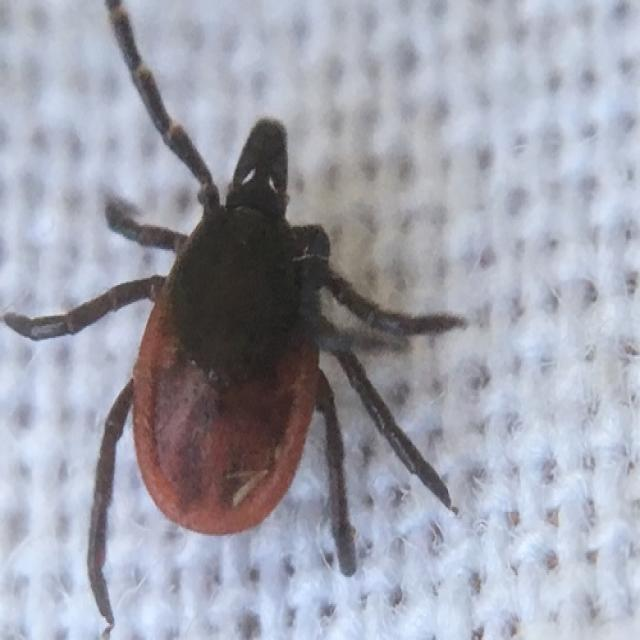Ixodes Ricinus-F: (4, 0, 467, 628)
